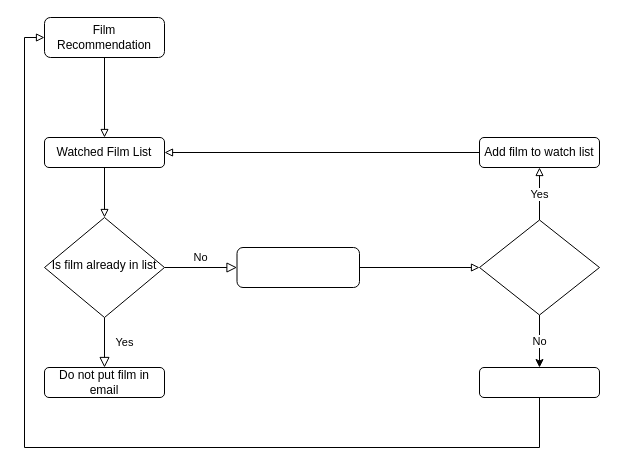
The diagram is 617 pixels wide and 473 high, and some of its shapes have lost their labels. Each missing label, with the box of its shape:
Did user watch film?: (478, 219, 600, 315)
Put film in email: (236, 246, 360, 288)
Recycle Film Back to Queue: (478, 366, 600, 398)
